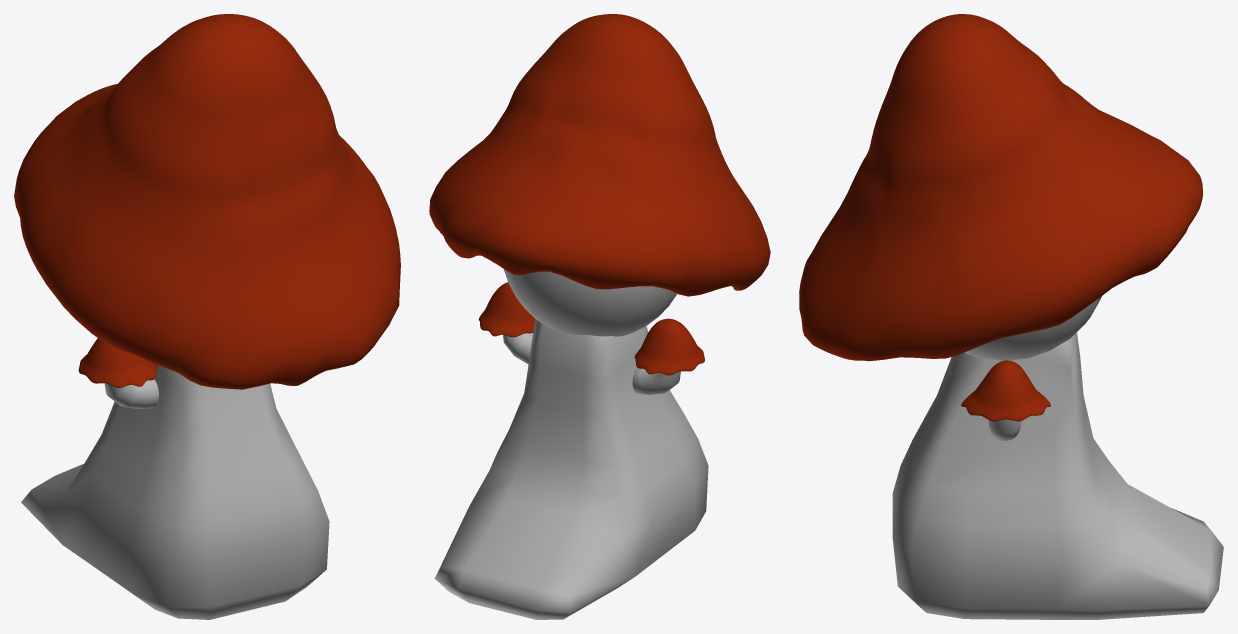
The model's file is MUSHROOM_ENEMY_2.fbx.
The picture shows the model from 3 angles, left to right: view 1: azimuth 30°, elevation 25°; view 2: azimuth 150°, elevation 25°; view 3: azimuth 270°, elevation 25°; orthographic projection. The views are drawn at different scales.
Parts seen in each view (by area): view 1: pSphere2, pCube4, pSphere7; view 2: pSphere2, pCube4, pSphere4, pSphere7, pSphere5, pCylinder36; view 3: pSphere2, pCube4, pSphere5, pSphere4.
Boxes of the visible parts, bbox=[...] form: pSphere2: bbox=[14, 14, 400, 389]; pCube4: bbox=[21, 364, 329, 619]; pSphere7: bbox=[78, 338, 158, 408]; pSphere2: bbox=[429, 14, 770, 296]; pCube4: bbox=[434, 319, 708, 619]; pSphere4: bbox=[503, 269, 676, 336]; pSphere7: bbox=[632, 318, 704, 394]; pSphere5: bbox=[478, 282, 535, 337]; pCylinder36: bbox=[503, 333, 532, 364]; pSphere2: bbox=[799, 14, 1202, 361]; pCube4: bbox=[892, 332, 1223, 619]; pSphere5: bbox=[961, 360, 1050, 421]; pSphere4: bbox=[964, 296, 1101, 360].
Size of the model in its own units: 32.34 by 54.75 by 36.8.
